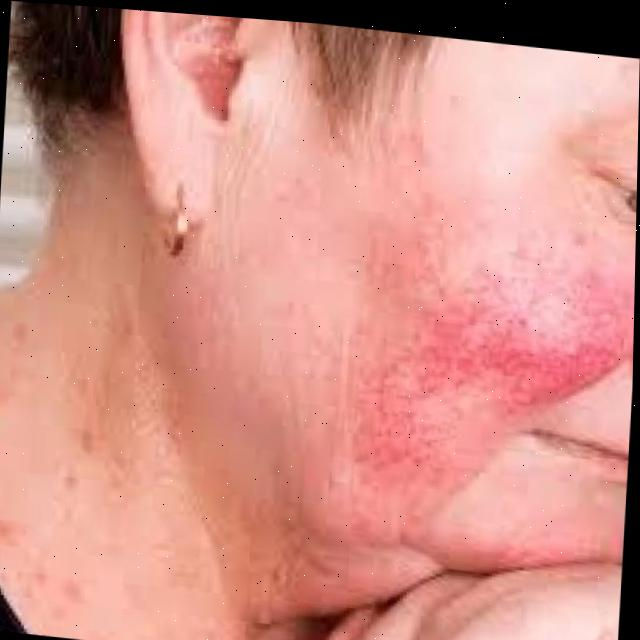Rosacea: (340, 233, 635, 482)
